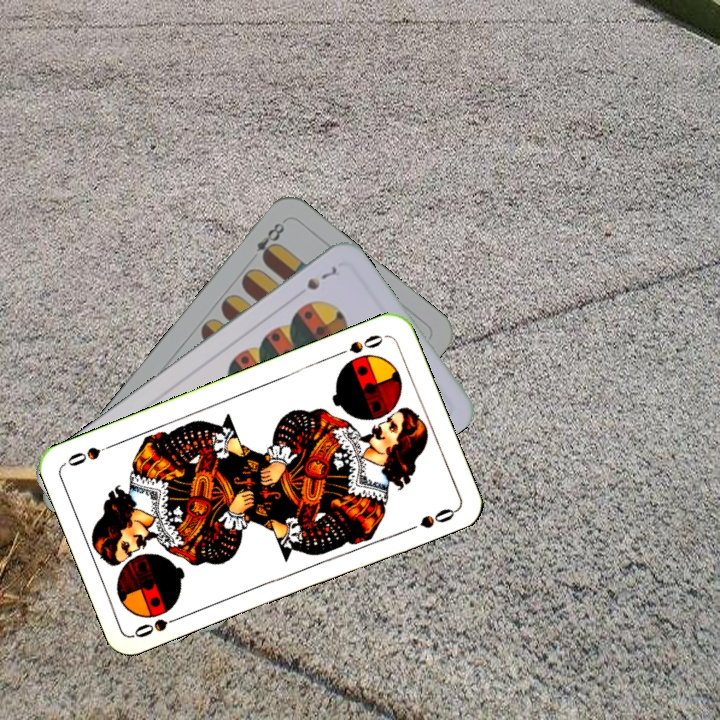E8: (252, 216, 288, 265)
S7: (303, 262, 340, 293)
SO: (130, 610, 188, 641), (332, 330, 389, 359)
